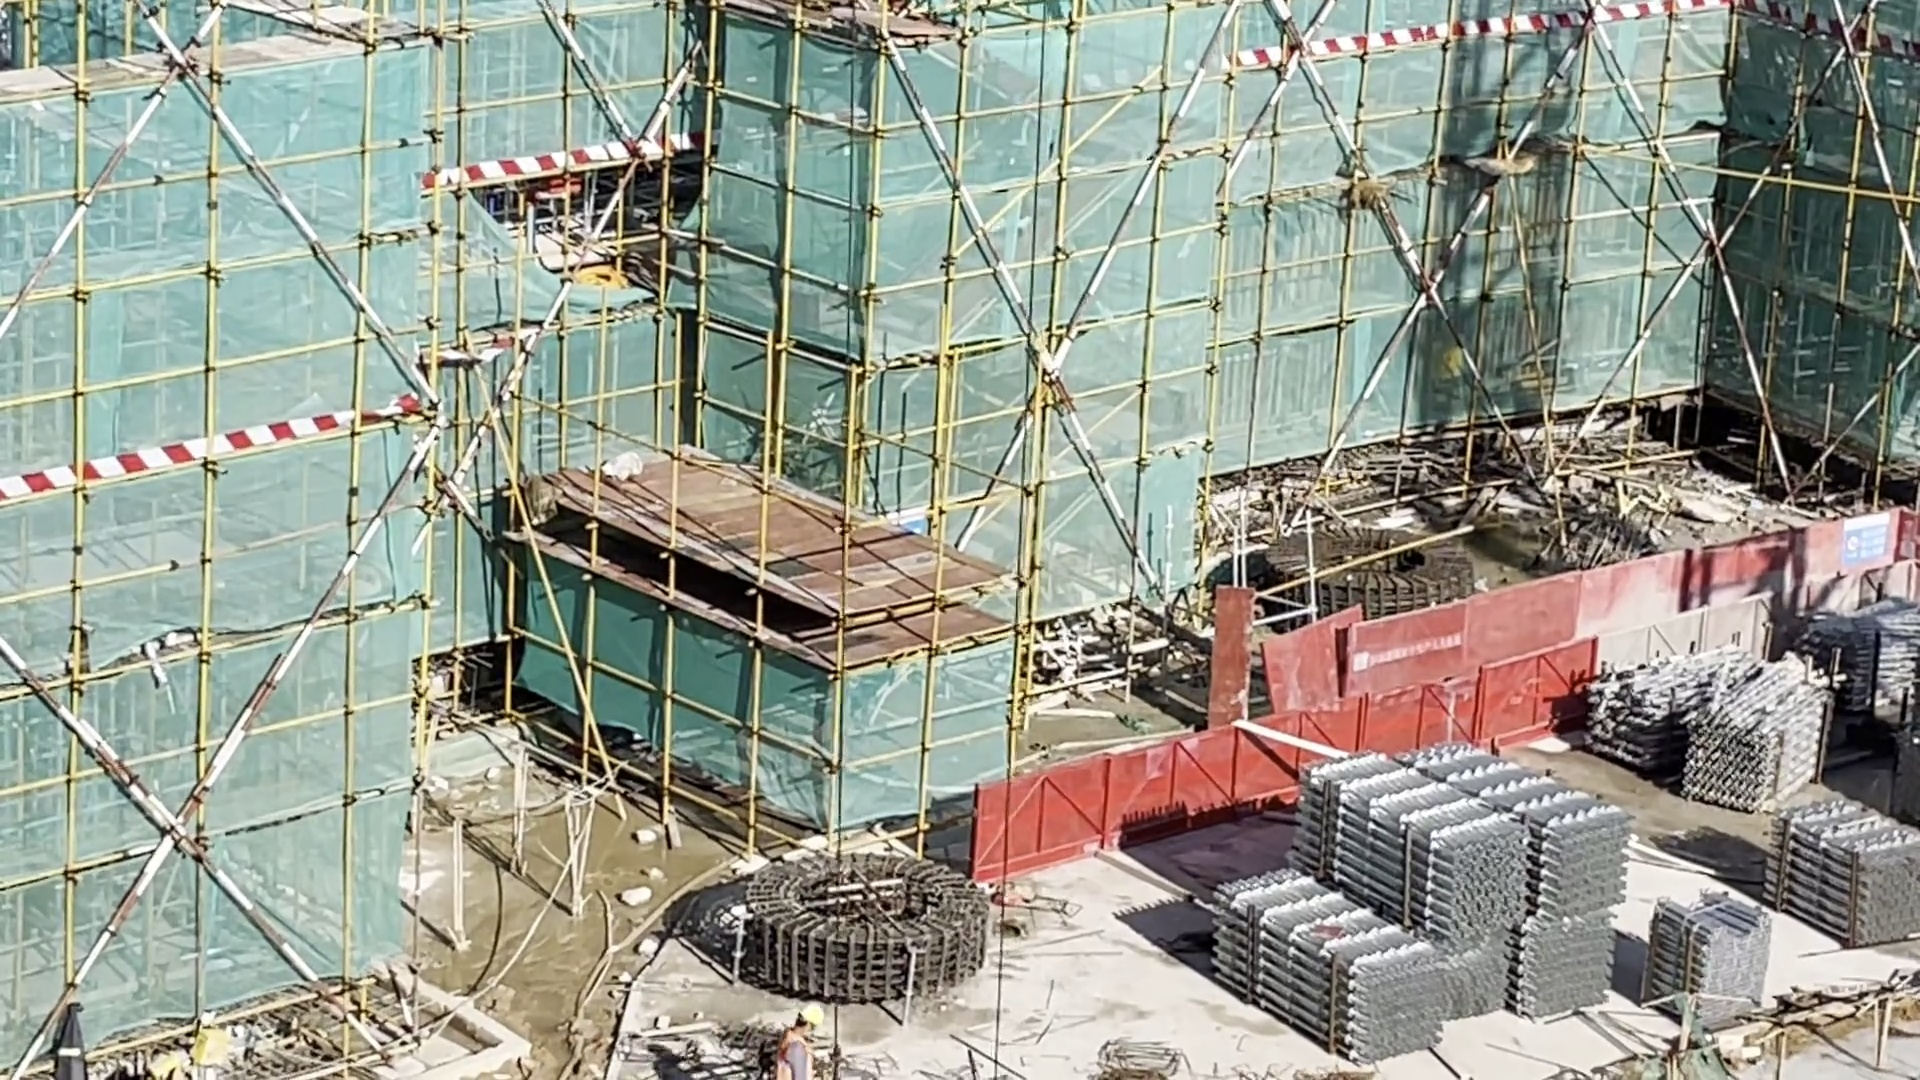fence: (974, 559, 1920, 880)
helmet: (798, 996, 833, 1030)
person: (776, 1010, 818, 1080)
scaffold: (1208, 737, 1633, 1072), (1598, 647, 1821, 809), (1766, 801, 1920, 943), (1647, 889, 1771, 1021), (1820, 603, 1920, 733)
vest: (779, 1031, 812, 1079)
